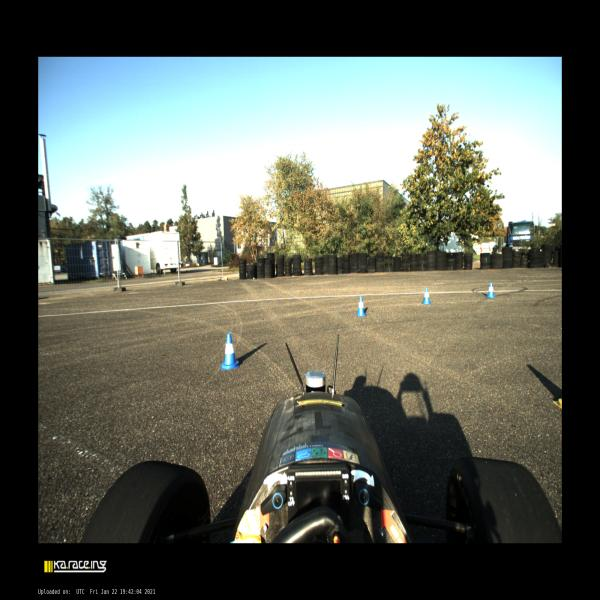blue_cone: (221, 333, 239, 370), (356, 296, 366, 316), (486, 282, 496, 298), (422, 287, 431, 304)
